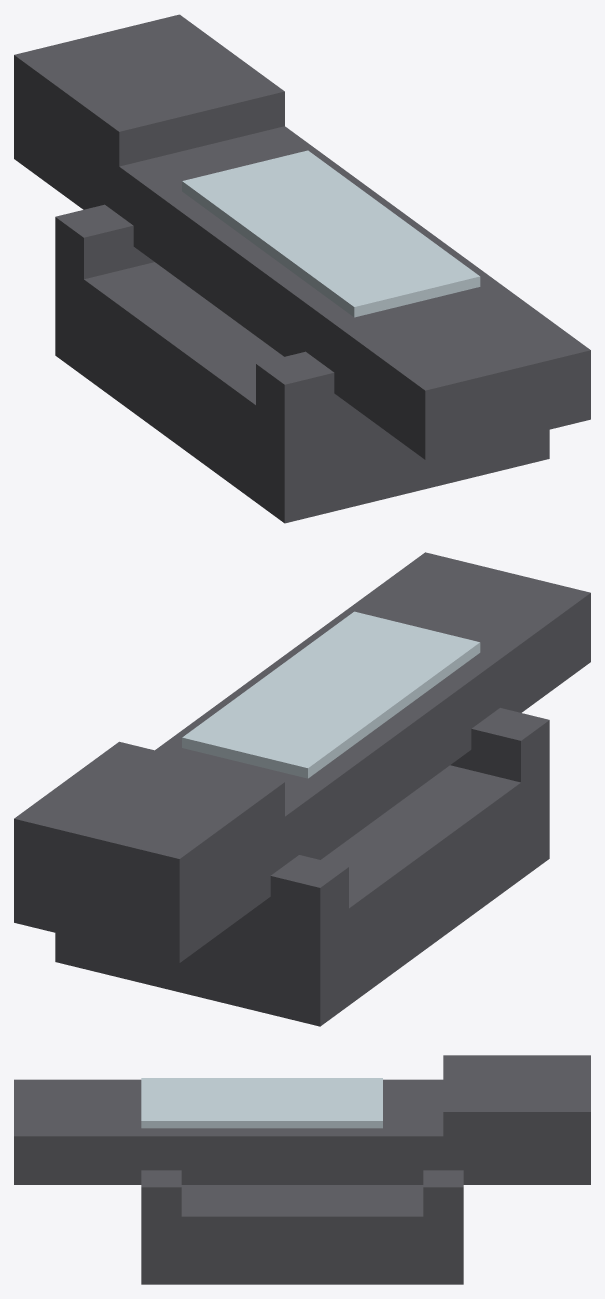
File: phone.gltf
The picture shows the model from 3 angles, top to bottom: view 1: azimuth 30°, elevation 25°; view 2: azimuth 150°, elevation 25°; view 3: azimuth 270°, elevation 25°; orthographic projection. The views are drawn at different scales.
Visible parts, largest first — view 1: Handset, Cradle, Earpiece, Screen, CradleRailA, CradleRailB; view 2: Handset, Cradle, Earpiece, Screen, CradleRailB, CradleRailA; view 3: Handset, Cradle, Screen, Earpiece, CradleRailA, CradleRailB.
Boxes of the visible parts, box(x1,y1,x2,y2) form: Handset: box(14, 90, 590, 459); Cradle: box(55, 259, 549, 523); Earpiece: box(14, 14, 284, 166); Screen: box(182, 150, 480, 317); CradleRailA: box(55, 204, 154, 279); CradleRailB: box(256, 351, 354, 426); Handset: box(14, 552, 590, 962); Cradle: box(55, 762, 549, 1026); Earpiece: box(14, 741, 284, 893); Screen: box(182, 611, 480, 778); CradleRailB: box(450, 708, 549, 782); CradleRailA: box(249, 855, 348, 929); Handset: box(14, 1079, 590, 1184); Cradle: box(141, 1185, 463, 1284); Screen: box(141, 1078, 382, 1128); Earpiece: box(443, 1055, 590, 1136); CradleRailA: box(423, 1170, 463, 1216); CradleRailB: box(141, 1170, 181, 1216).
Size of the model in its own units: 0.005 by 0.004 by 0.0134.
